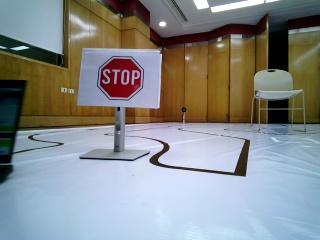stop: (89, 52, 154, 103)
